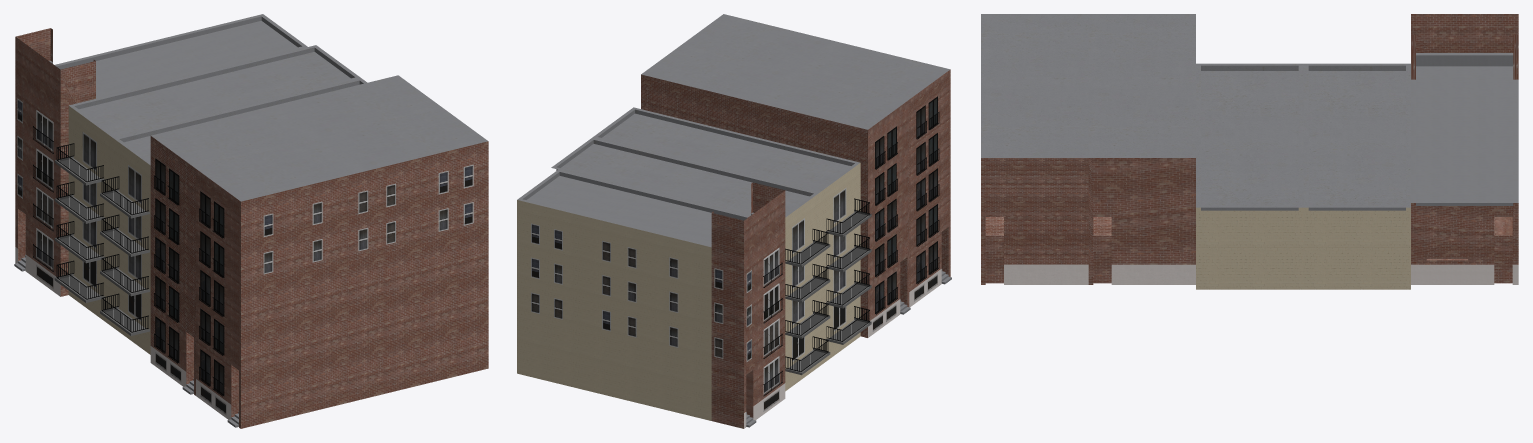
File: Flats.fbx
3 views of the same model, side by side, from view 1: azimuth 30°, elevation 25°; view 2: azimuth 150°, elevation 25°; view 3: azimuth 270°, elevation 25° (orthographic). The views are drawn at different scales.
Parts seen in each view (by area): view 1: Flats.001; view 2: Flats.001; view 3: Flats.001.
Part boxes in pixels (bbox=[...]): Flats.001: bbox=[14, 14, 488, 428]; Flats.001: bbox=[517, 14, 951, 428]; Flats.001: bbox=[981, 14, 1518, 289].
Size of the model in its own units: 908 by 737 by 1329.
10 materials, 10 textured.
